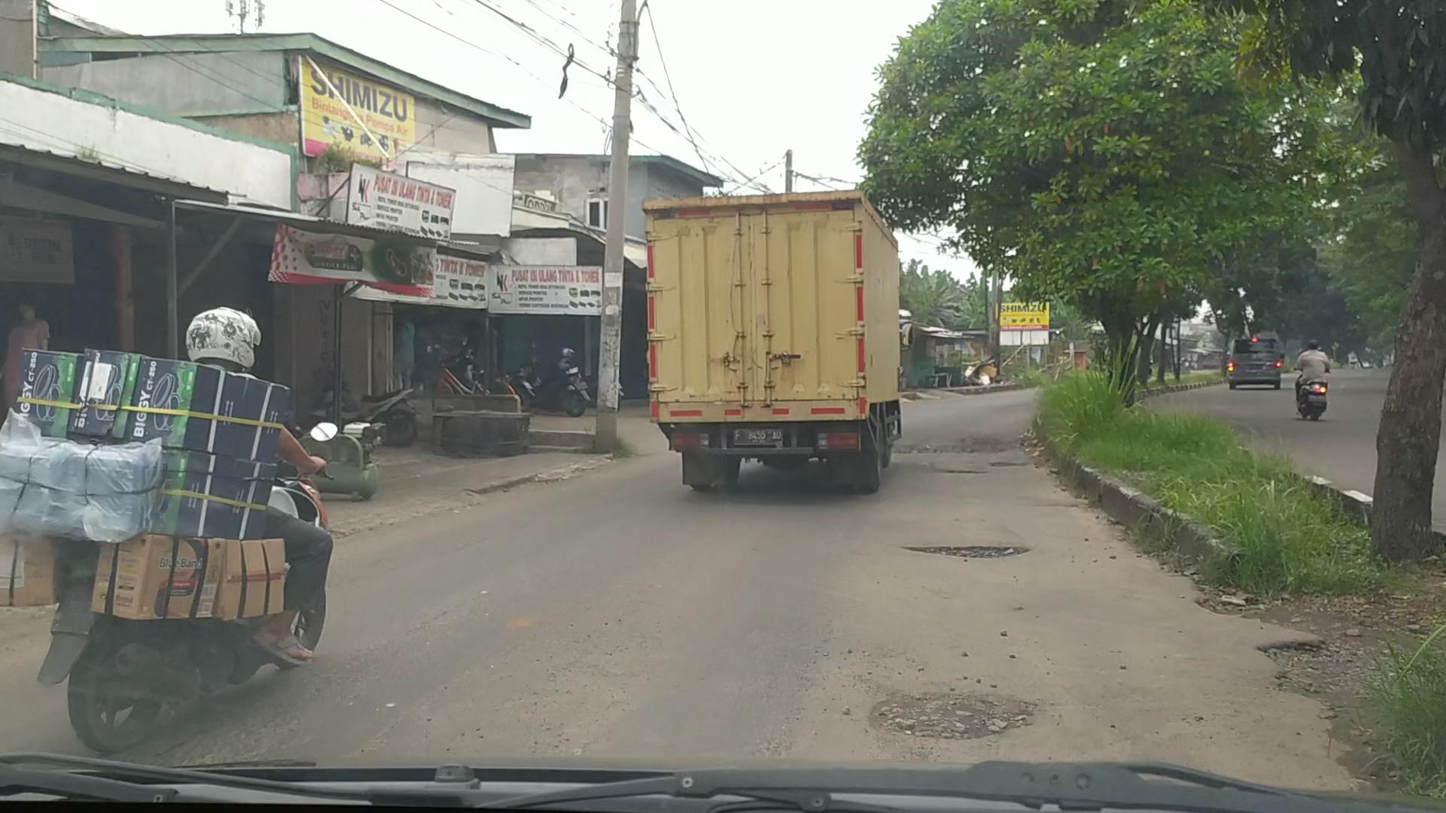pothole: (878, 684, 1028, 746), (914, 539, 1028, 559)
